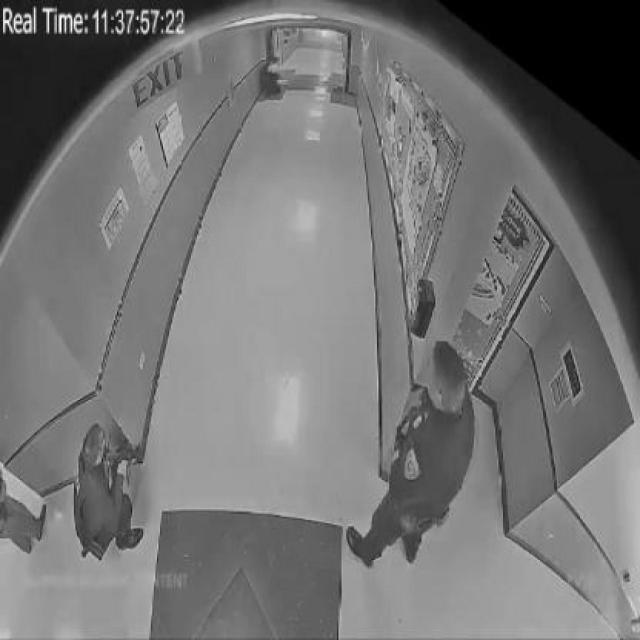weapon: (99, 446, 147, 481)
